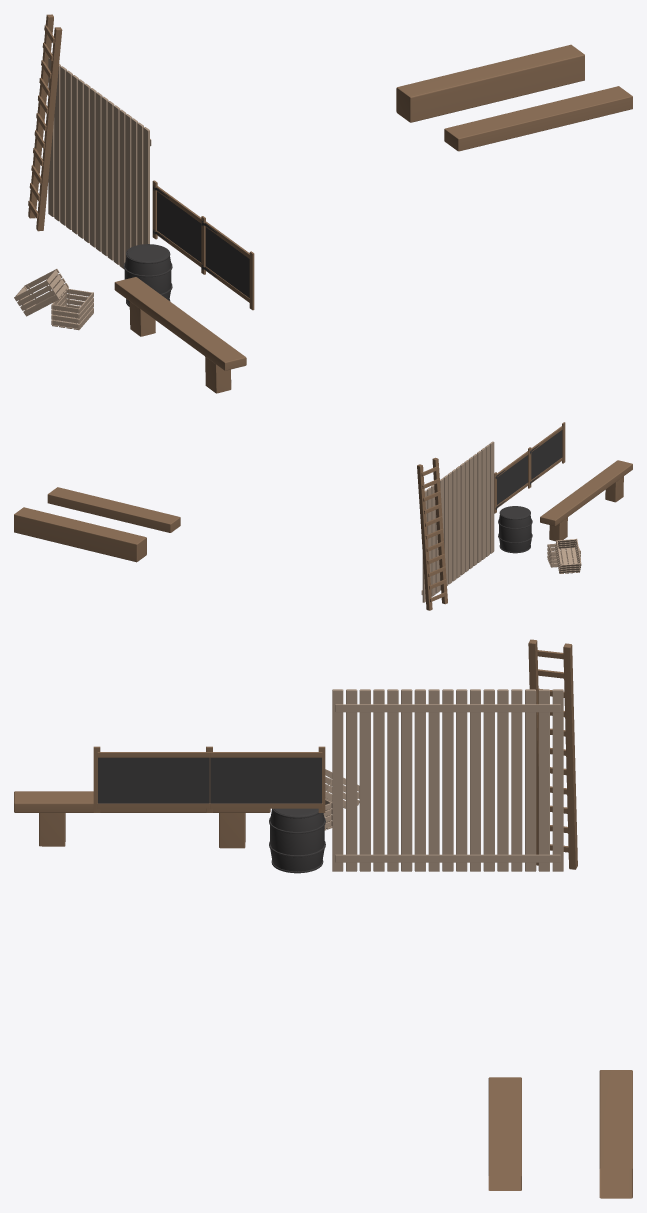
File: PropSet2.fbx
The picture shows the model from 3 angles, top to bottom: view 1: azimuth 30°, elevation 25°; view 2: azimuth 150°, elevation 25°; view 3: azimuth 270°, elevation 25°; orthographic projection. The views are drawn at different scales.
Parts seen in each view (by area): view 1: ThinHalfWall, Corkboard, Bench, Plank_A_M, Ladder, Plank_A_L, Plank_B_M, Plank_B_L, Barrel, StorageCrate1, StorageCrate; view 2: ThinHalfWall, Corkboard, Ladder, Bench, Plank_A_M, Plank_A_L, Barrel, Plank_B_M, Plank_B_L, StorageCrate1, StorageCrate; view 3: ThinHalfWall, Corkboard, Bench, Ladder, Barrel, Plank_A_M, Plank_B_M, Plank_B_L, Plank_A_L.
Part boxes in pixels (left/top/right/bottom): ThinHalfWall: left=48, top=58, right=151, bottom=268; Corkboard: left=152, top=180, right=254, bottom=310; Bench: left=114, top=277, right=246, bottom=393; Plank_A_M: left=472, top=44, right=584, bottom=104; Ladder: left=28, top=14, right=62, bottom=231; Plank_A_L: left=396, top=69, right=485, bottom=122; Plank_B_M: left=519, top=86, right=632, bottom=133; Plank_B_L: left=444, top=110, right=532, bottom=151; Barrel: left=123, top=244, right=172, bottom=306; StorageCrate1: left=14, top=269, right=68, bottom=316; StorageCrate: left=51, top=289, right=93, bottom=330; ThinHalfWall: left=421, top=441, right=494, bottom=602; Corkboard: left=494, top=422, right=565, bottom=513; Ladder: left=417, top=457, right=447, bottom=610; Bench: left=540, top=460, right=632, bottom=541; Plank_A_M: left=14, top=507, right=93, bottom=549; Plank_A_L: left=84, top=524, right=146, bottom=562; Barrel: left=498, top=506, right=532, bottom=553; Plank_B_M: left=47, top=487, right=127, bottom=520; Plank_B_L: left=118, top=504, right=180, bottom=532; StorageCrate1: left=555, top=538, right=581, bottom=573; StorageCrate: left=547, top=543, right=580, bottom=567; ThinHalfWall: left=332, top=689, right=563, bottom=871; Corkboard: left=93, top=746, right=325, bottom=812; Bench: left=14, top=791, right=270, bottom=848; Ladder: left=528, top=639, right=577, bottom=869; Barrel: left=269, top=808, right=325, bottom=873; Plank_A_M: left=599, top=1111, right=632, bottom=1198; Plank_B_M: left=488, top=1119, right=521, bottom=1190; Plank_B_L: left=488, top=1077, right=521, bottom=1119; Plank_A_L: left=599, top=1070, right=632, bottom=1112.
Size of the model in its own units: 8.18 by 2.4 by 5.55.
